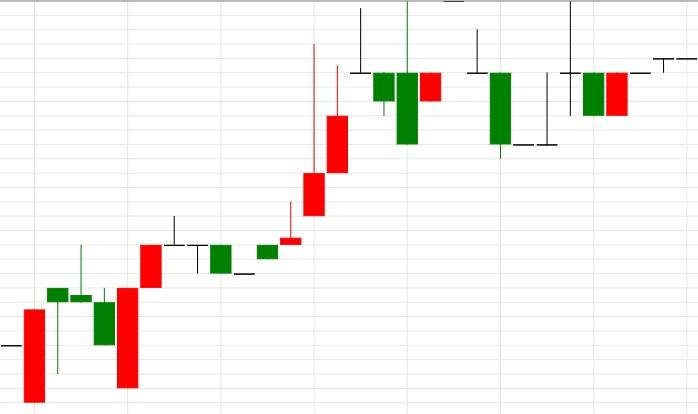bullish_engulfing_rise: (46, 244, 139, 389)
hanging_man_fall: (0, 287, 69, 403)
